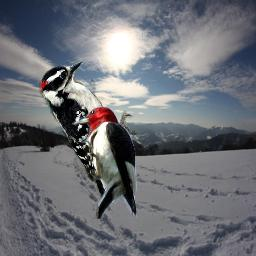Woodpecker: (39, 61, 139, 199), (71, 106, 138, 219)
